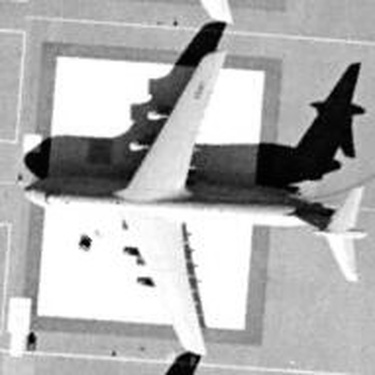airplane: (9, 35, 369, 369), (179, 4, 254, 32)
